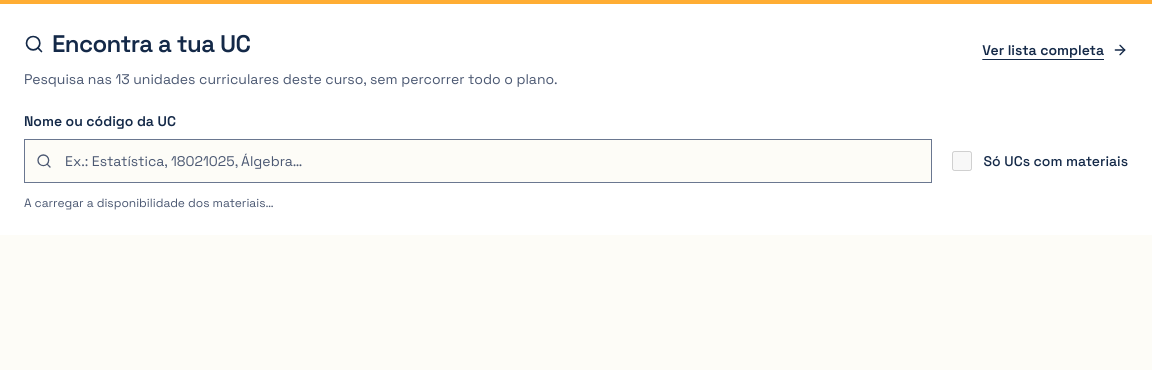
Test: coverage loading and playlist-only UCs › disables material-only filtering while counts are loading or unavailable but keeps search working
Expected: the checkbox labelled "Só UCs com materiais" is disabled, 952,151 -> 972,171
Expected: the text "A carregar a disponibilidade dos materiais…" is shown, 24,195 -> 274,211
Type "calculo" into the search field labelled "Nome ou código da UC".
click(478, 161); type("calculo")  # box 24,139 -> 932,183
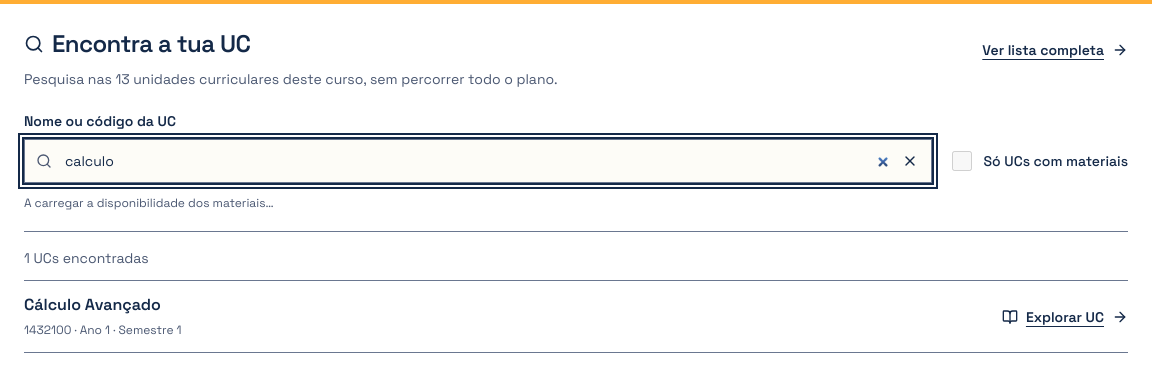
Now the link "Cálculo Avançado" is shown, box 24,294 -> 161,315
